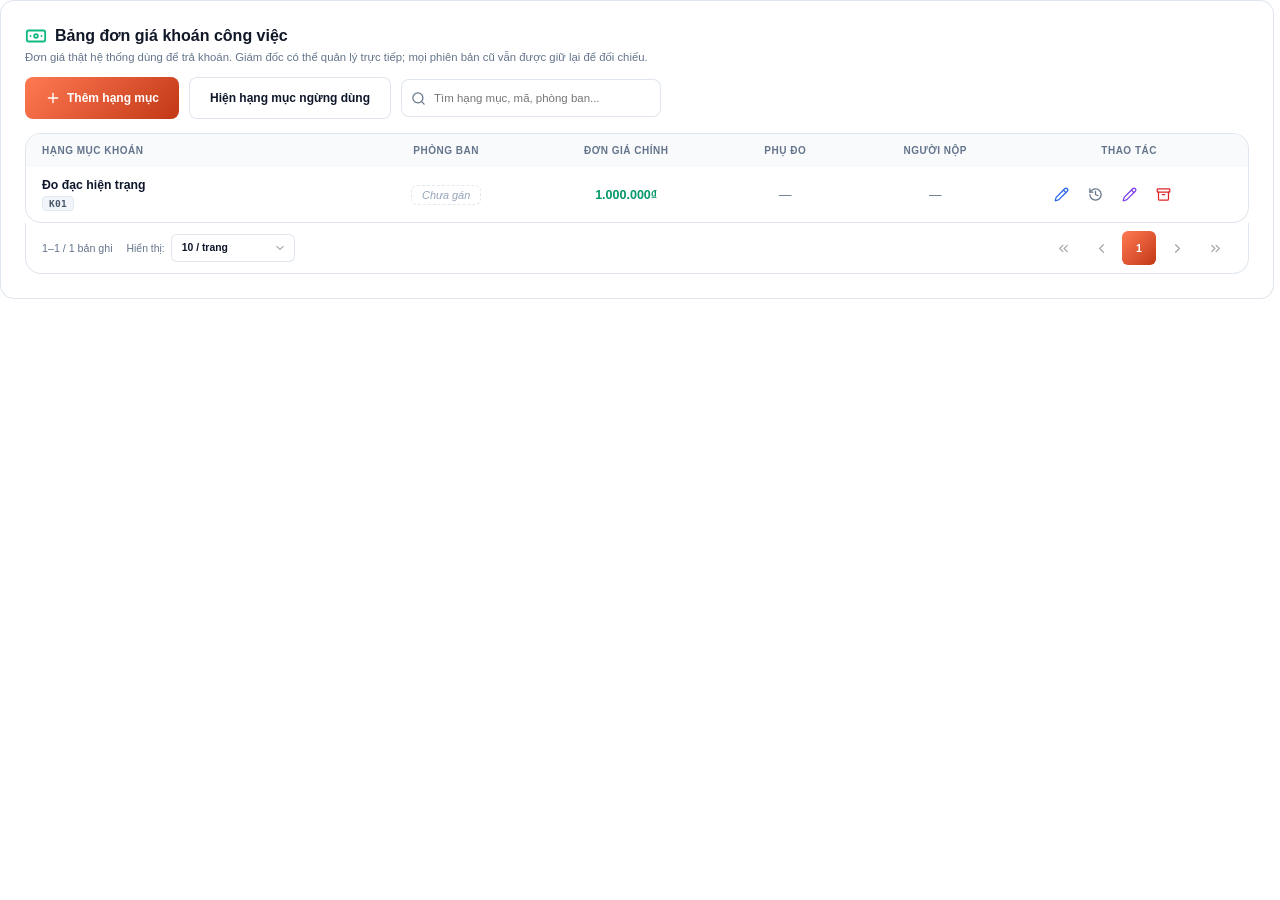
PieceRatePricingScreen catalog controls › asks for confirmation before deactivating an item
Expected: the text "Đo đạc hiện trạng" is shown, [42,178,146,192]
Click the button with test id "piece-rate-deactivate-wi_1" at (1163, 194), box [1148,180,1178,210]
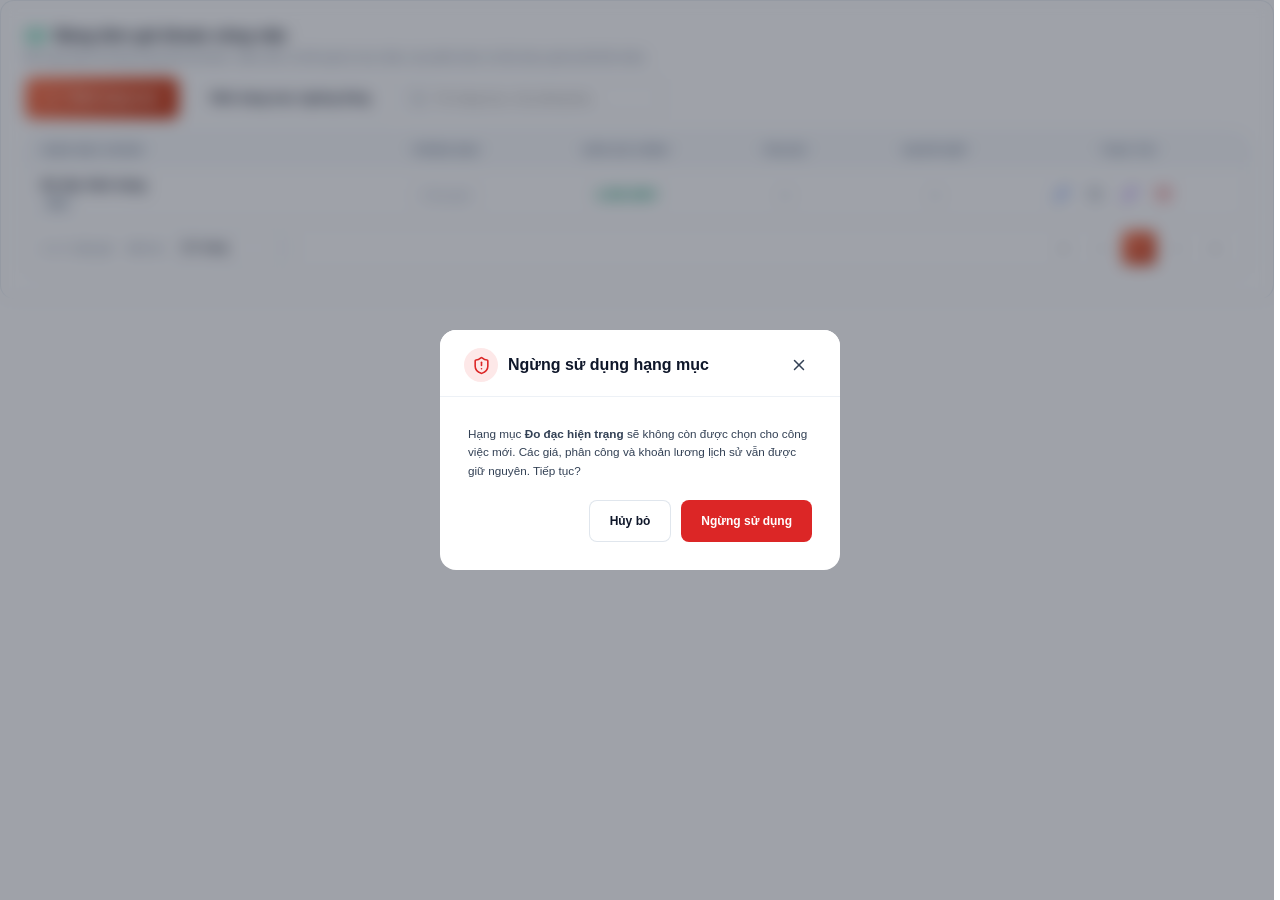
Expected: the text "Ngừng sử dụng hạng mục" is shown, [464,348,709,382]
